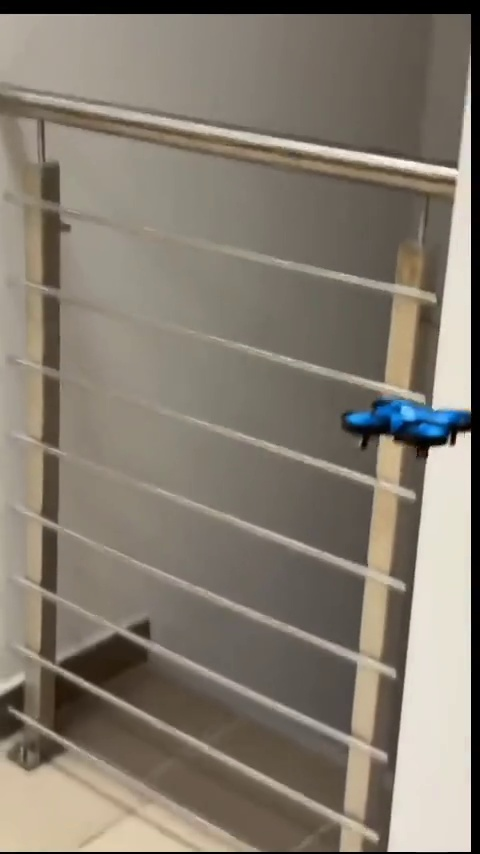drone: (347, 396, 471, 451)
